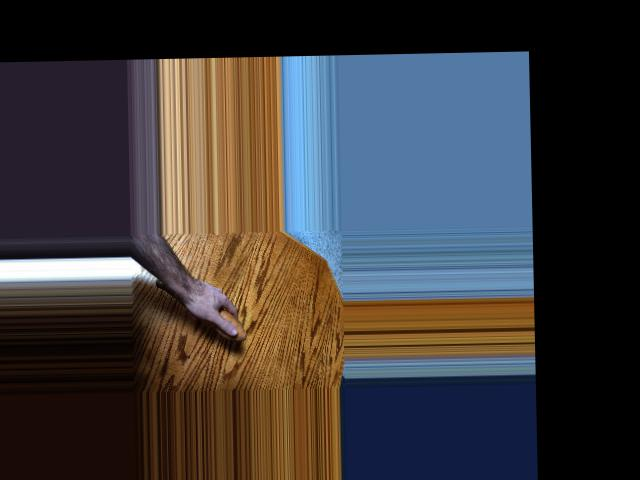sweet_potato: (151, 270, 247, 344)
